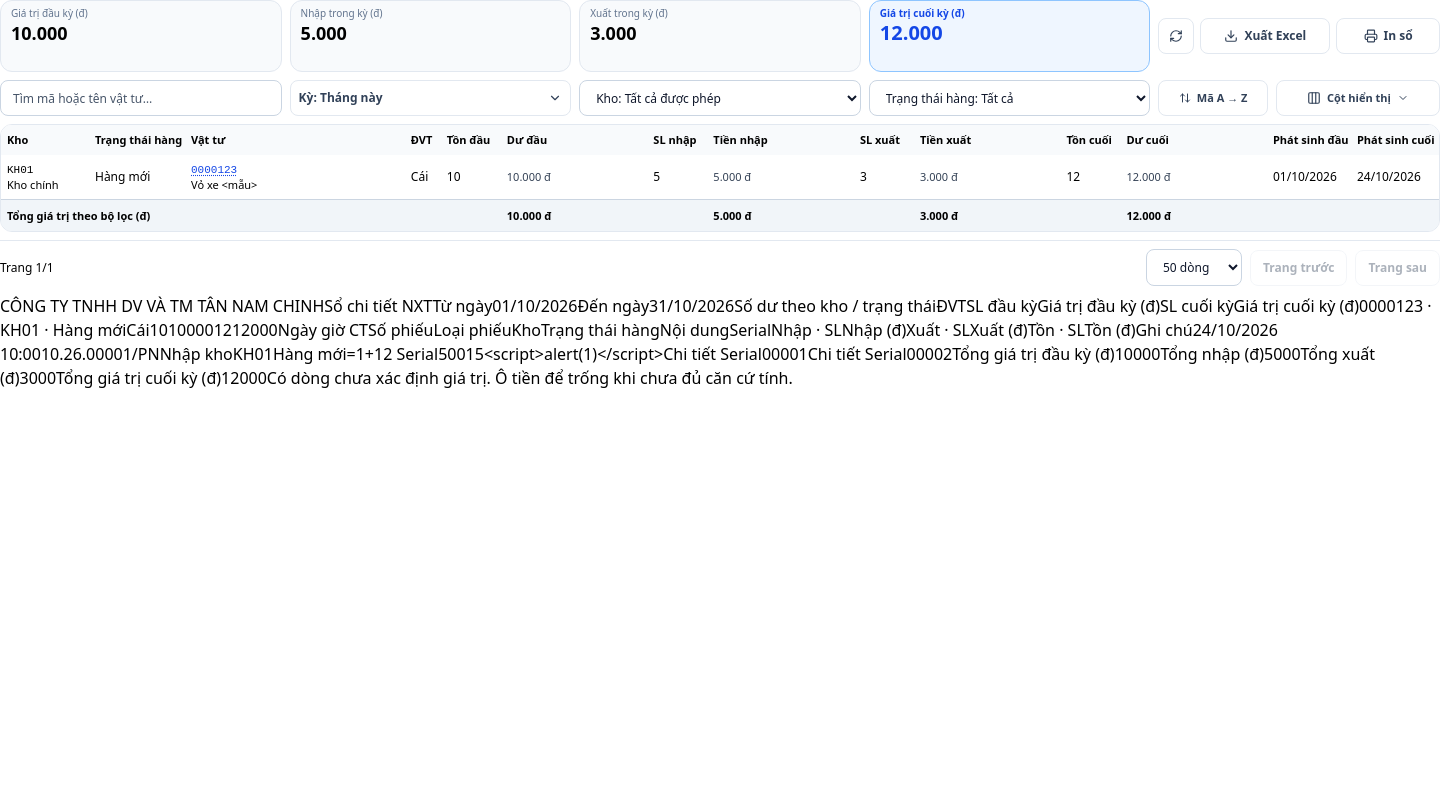
Test case: closing detail aborts its pending read and ignores late data without replacing summary
The image size is (1440, 810).
Click the button named "Xem chi tiết nhập xuất 0000123".
click(214, 170)  # box [191,162,237,178]
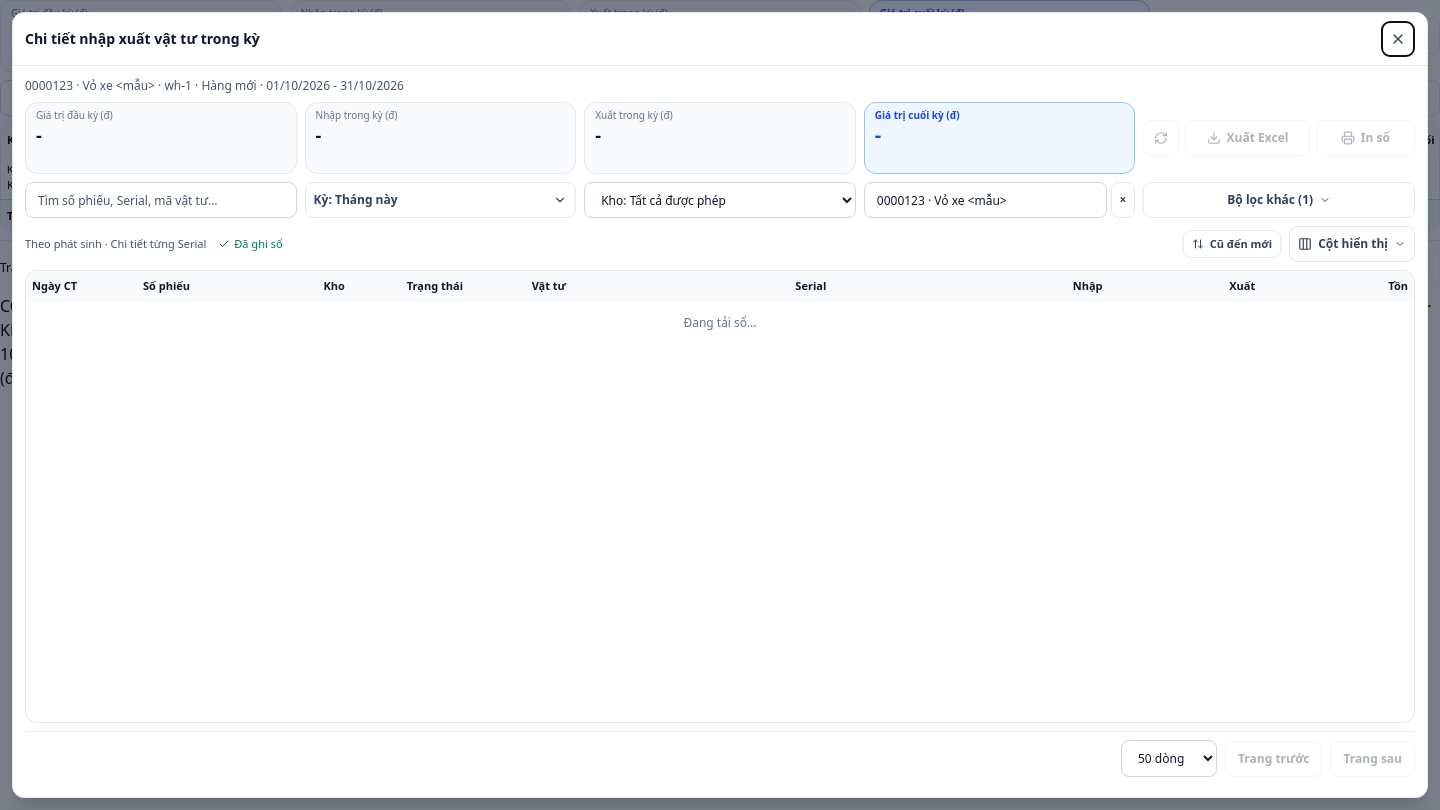
Click the button named "Đóng chi tiết nhập xuất".
click(1398, 39)  # box [1381,21,1415,57]
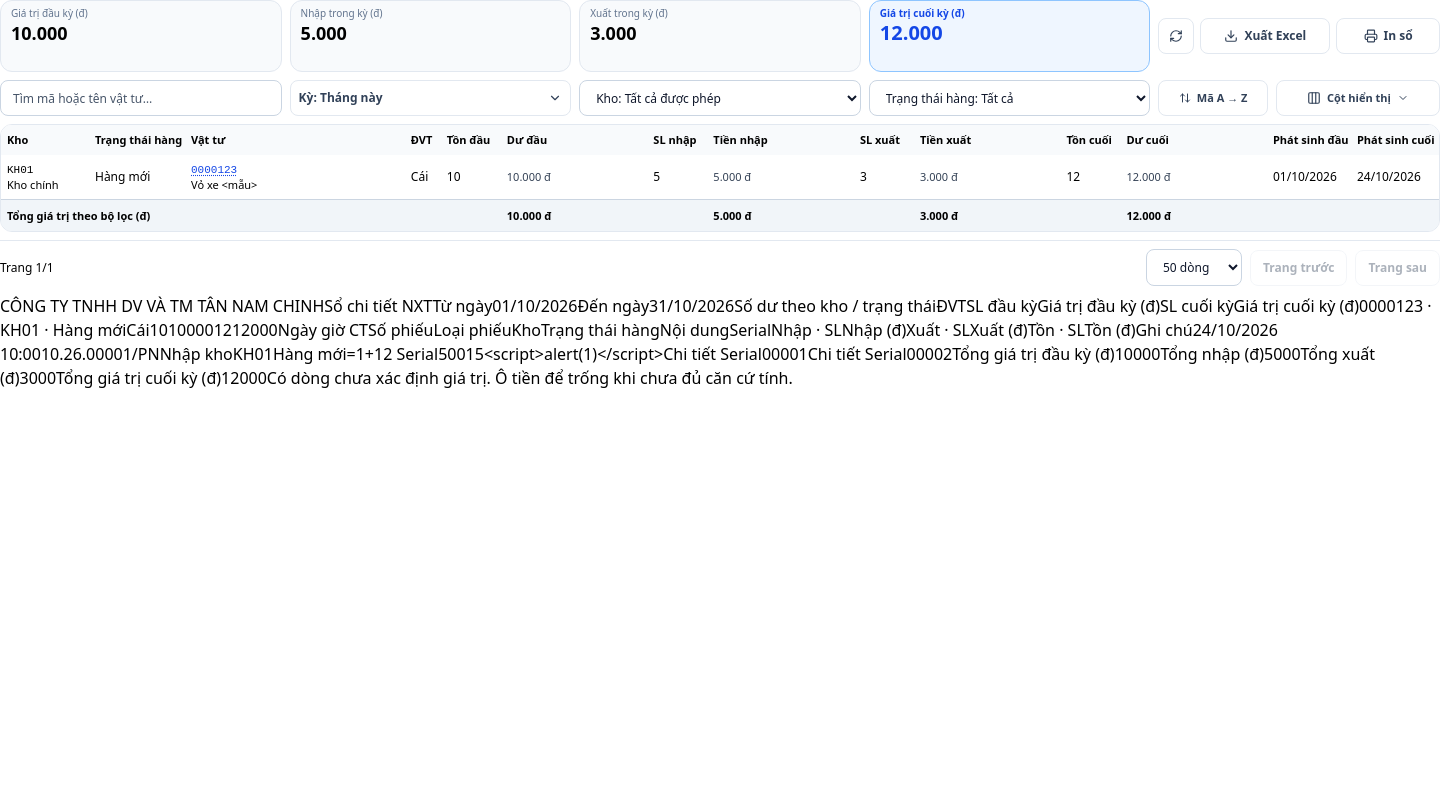
Expected: the table named "Sổ tổng hợp NXT" is shown, [1,125,1439,199]
Expected: the dialog is gone
